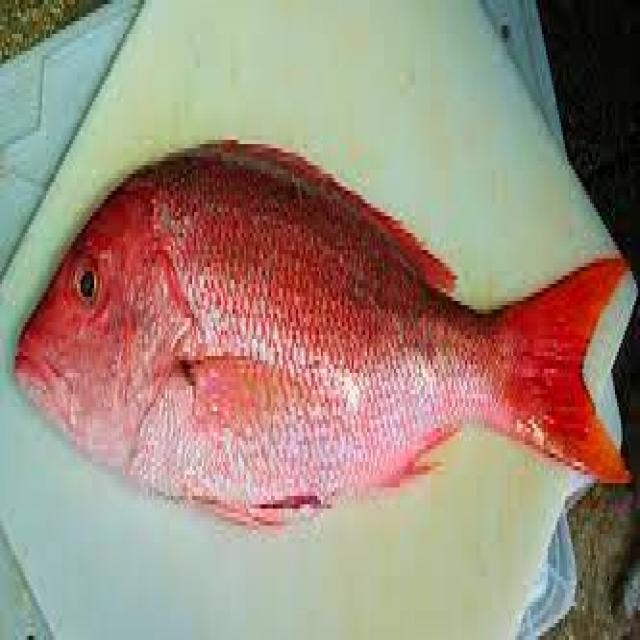northern-red-snapper: (7, 104, 640, 552)
